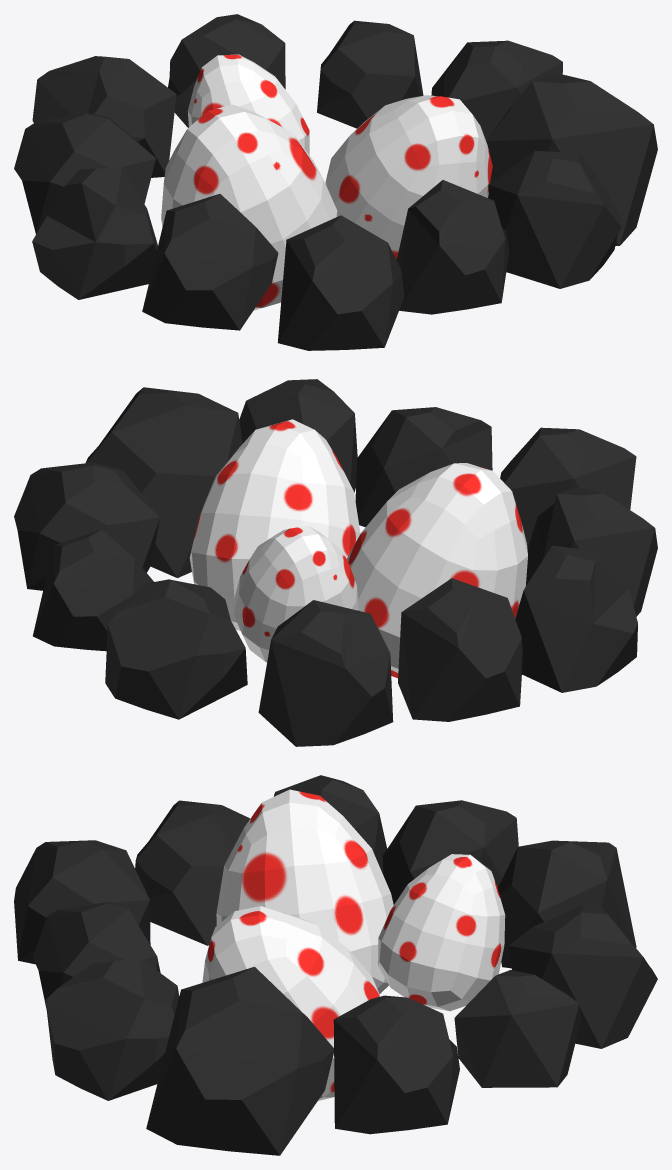
The model's file is EggStoneCircle.glb.
3 views of the same model, one above another, from view 1: azimuth 30°, elevation 25°; view 2: azimuth 150°, elevation 25°; view 3: azimuth 270°, elevation 25° (orthographic). The views are drawn at different scales.
Visible parts, largest first — view 1: Stone Circle, EggRed, EggRed.002, EggRed.001; view 2: Stone Circle, EggRed, EggRed.002, EggRed.001; view 3: Stone Circle, EggRed, EggRed.001, EggRed.002.
Part boxes in pixels (bbox=[...]): Stone Circle: bbox=[14, 14, 657, 350]; EggRed: bbox=[161, 104, 337, 310]; EggRed.002: bbox=[325, 95, 492, 259]; EggRed.001: bbox=[187, 54, 309, 155]; Stone Circle: bbox=[14, 379, 657, 746]; EggRed: bbox=[347, 463, 527, 678]; EggRed.002: bbox=[189, 419, 360, 630]; EggRed.001: bbox=[234, 525, 358, 662]; Stone Circle: bbox=[14, 775, 657, 1155]; EggRed: bbox=[216, 789, 393, 993]; EggRed.001: bbox=[378, 854, 505, 1011]; EggRed.002: bbox=[202, 906, 379, 1100].
Size of the model in its own units: 1.29 by 0.4338 by 1.21.
Materials: 2 (1 with a texture image).
